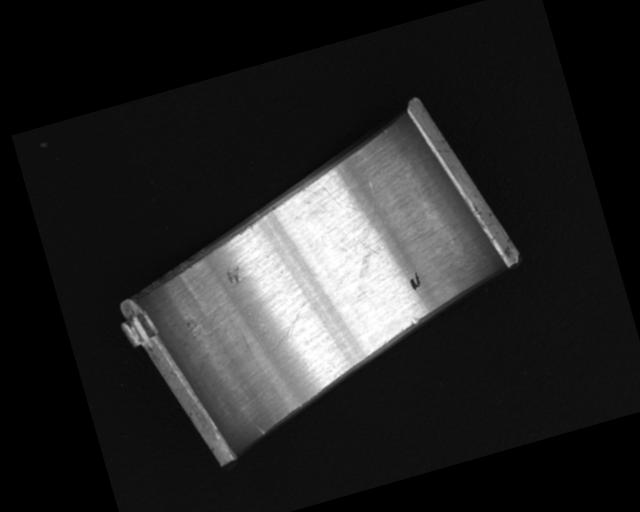blot: (340, 227, 392, 284), (406, 270, 423, 293)
bruise: (223, 263, 243, 287), (410, 316, 419, 326)
nick: (260, 298, 318, 351), (253, 423, 266, 437)
